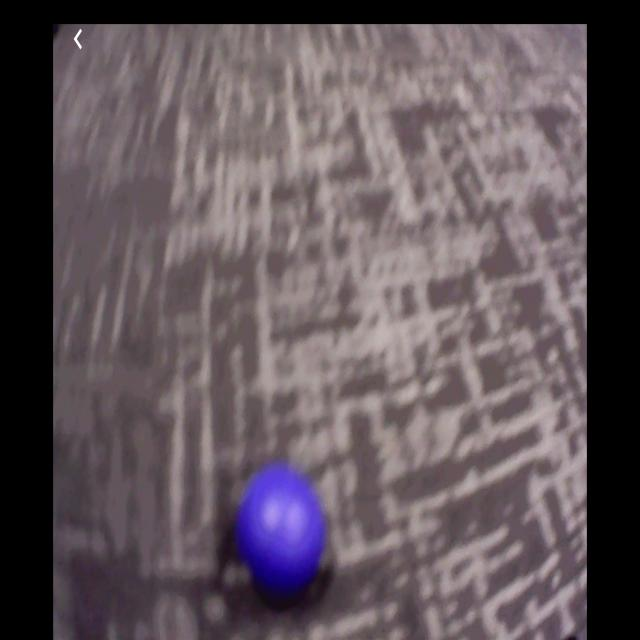ball: (241, 468, 323, 590)
